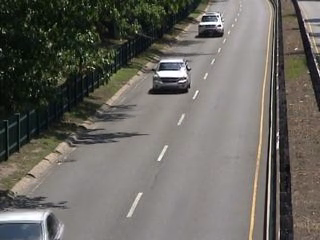car: (148, 54, 194, 93), (198, 11, 227, 38)
